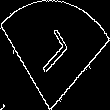L_SW: (34, 27, 76, 83)
